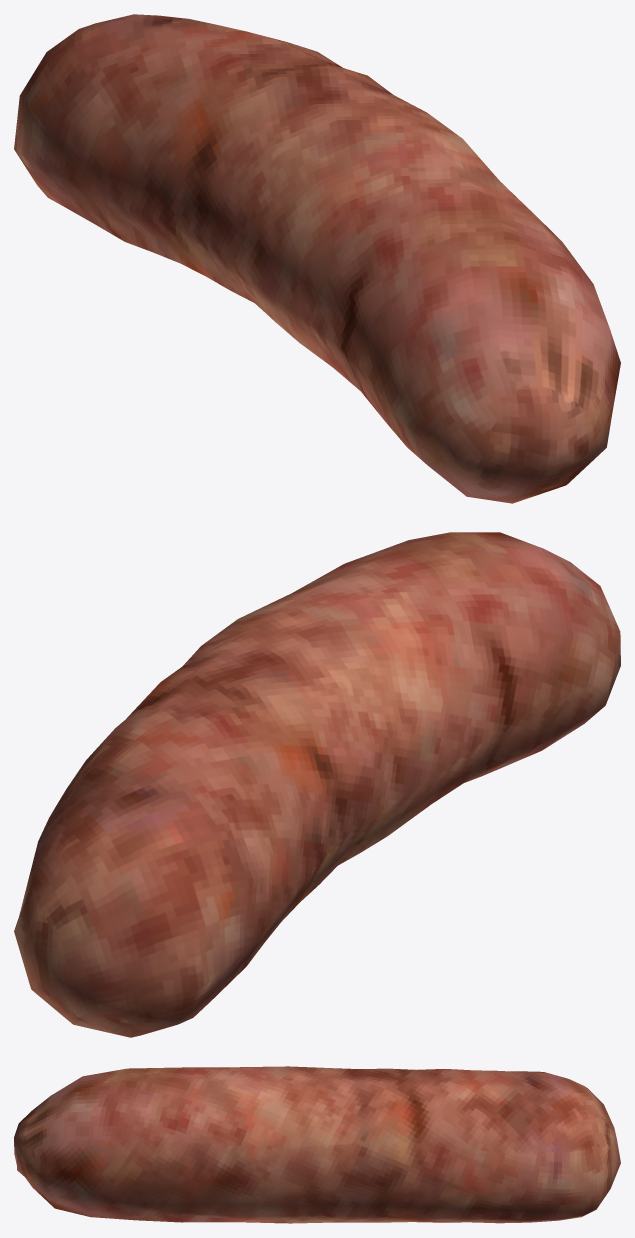
The model's file is ref_bbqsausage.glb.
3 renders of one model, top to bottom at view 1: azimuth 30°, elevation 25°; view 2: azimuth 150°, elevation 25°; view 3: azimuth 270°, elevation 25°, orthographic. The views are drawn at different scales.
Parts seen in each view (by area): view 1: ref_bbqsausage; view 2: ref_bbqsausage; view 3: ref_bbqsausage.
Boxes of the visible parts, <box> form: ref_bbqsausage: <box>14,14,620,503</box>; ref_bbqsausage: <box>14,532,620,1037</box>; ref_bbqsausage: <box>14,1066,620,1223</box>.
Size of the model in its own units: 0.2987 by 0.2701 by 1.
Materials: 1 (1 with a texture image).
